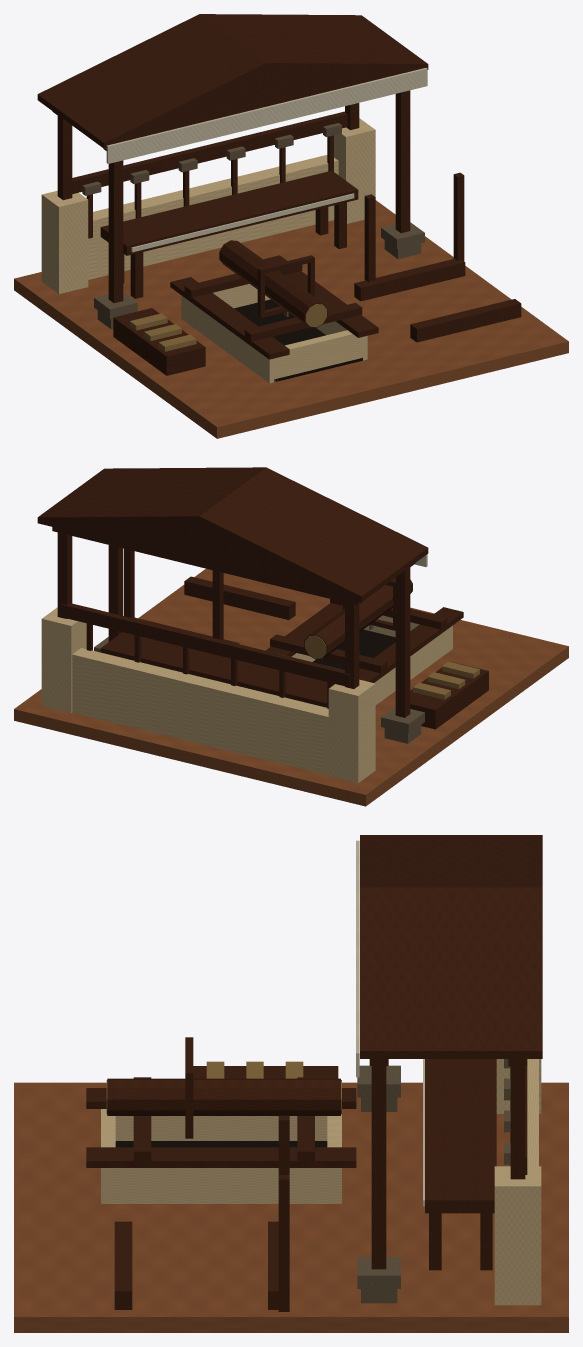
Rendered from Berber_Lumber_Age3_ResourceEmpty.fbx.
3 views of the same model, one above another, from view 1: azimuth 30°, elevation 25°; view 2: azimuth 150°, elevation 25°; view 3: azimuth 270°, elevation 25° (orthographic). The views are drawn at different scales.
Parts seen in each view (by area): view 1: yard_foundation, covered_tool_roof, rear_low_masonry, tool_bench_top, owner_front_roof_valance, shelter_stone_pier, tool_rack_backrail, shelter_stone_pier.001, offcut_sorting_bin, sawpit_work_log, pit_end, pit_side (+18 smaller); view 2: covered_tool_roof, yard_foundation, rear_low_masonry, tool_bench_top, tool_rack_backrail, shelter_stone_pier, shelter_stone_pier.001, shelter_post, offcut_sorting_bin, stack_dunnage, sawpit_work_log, pit_side (+12 smaller); view 3: yard_foundation, covered_tool_roof, tool_bench_top, sawpit_work_log, pit_side.001, shelter_stone_pier.001, pit_rim_plank.001, pit_side, shelter_post.002, shelter_post.003, stack_dunnage, stack_retaining_post.001 (+14 smaller).
Part boxes in pixels (bbox=[...]): yard_foundation: bbox=[14, 200, 568, 438]; covered_tool_roof: bbox=[37, 14, 428, 148]; rear_low_masonry: bbox=[88, 155, 338, 279]; tool_bench_top: bbox=[100, 170, 358, 255]; owner_front_roof_valance: bbox=[106, 68, 427, 163]; shelter_stone_pier: bbox=[41, 190, 88, 293]; tool_rack_backrail: bbox=[72, 111, 347, 193]; shelter_stone_pier.001: bbox=[334, 118, 375, 223]; offcut_sorting_bin: bbox=[113, 308, 205, 375]; sawpit_work_log: bbox=[219, 240, 327, 327]; pit_end: bbox=[279, 330, 358, 377]; pit_side: bbox=[181, 295, 278, 383]; covered_tool_roof: bbox=[37, 467, 428, 602]; yard_foundation: bbox=[14, 568, 568, 806]; rear_low_masonry: bbox=[72, 648, 328, 774]; tool_bench_top: bbox=[100, 632, 334, 707]; tool_rack_backrail: bbox=[60, 603, 350, 687]; shelter_stone_pier: bbox=[328, 679, 375, 783]; shelter_stone_pier.001: bbox=[41, 607, 86, 712]; shelter_post: bbox=[395, 567, 410, 717]; offcut_sorting_bin: bbox=[410, 661, 488, 729]; stack_dunnage: bbox=[184, 576, 295, 619]; sawpit_work_log: bbox=[304, 577, 412, 659]; pit_side: bbox=[374, 625, 452, 704]; yard_foundation: bbox=[14, 1082, 568, 1332]; covered_tool_roof: bbox=[360, 835, 542, 1058]; tool_bench_top: bbox=[425, 1059, 496, 1213]; sawpit_work_log: bbox=[107, 1078, 340, 1115]; pit_side.001: bbox=[101, 1168, 341, 1203]; shelter_stone_pier.001: bbox=[494, 1166, 541, 1305]; pit_rim_plank.001: bbox=[86, 1147, 356, 1167]; pit_side: bbox=[115, 1116, 327, 1140]; shelter_post.002: bbox=[371, 1066, 386, 1269]; shelter_post.003: bbox=[510, 1066, 525, 1179]; stack_dunnage: bbox=[114, 1221, 132, 1309]; stack_retaining_post.001: bbox=[278, 1175, 289, 1311].
Bounding box in the file's own units: 380 × 248 × 380.
Materials: 7 (7 with a texture image).
